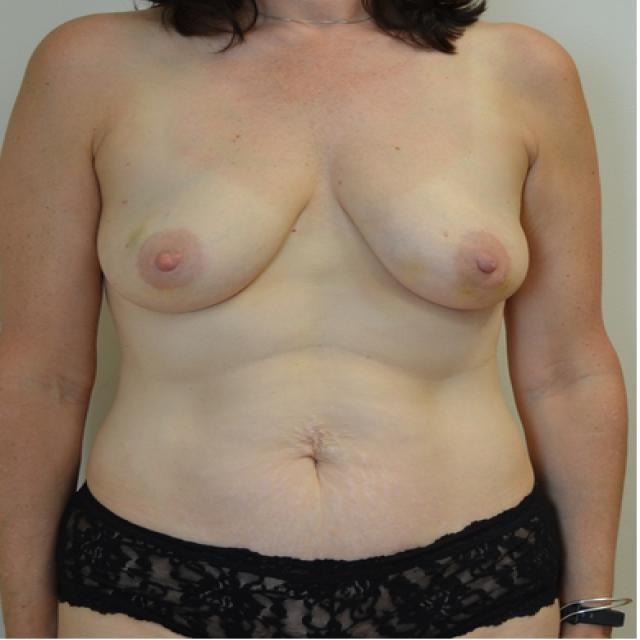Seno herido: (91, 123, 320, 323), (325, 124, 536, 323)
